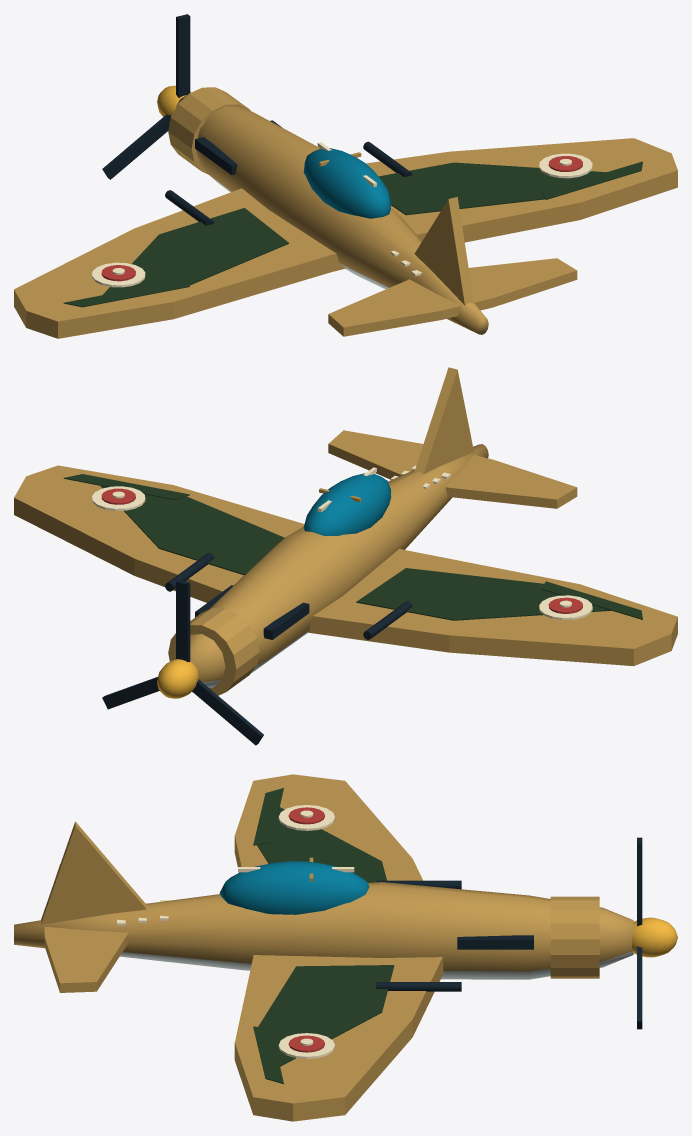
Rendered from scout.glb.
The picture shows the model from 3 angles, top to bottom: view 1: azimuth 30°, elevation 25°; view 2: azimuth 150°, elevation 25°; view 3: azimuth 270°, elevation 25°; orthographic projection. The views are drawn at different scales.
Parts seen in each view (by area): view 1: scout-airframe, blade_0_0.003, blade_0_2.003; view 2: scout-airframe, blade_0_2.003, blade_0_0.003, blade_0_1.003; view 3: scout-airframe, blade_0_0.003.
Boxes of the visible parts, x1,y1,x2,y2 form: scout-airframe: [14, 85, 677, 338]; blade_0_0.003: [176, 14, 190, 97]; blade_0_2.003: [102, 114, 170, 179]; scout-airframe: [14, 367, 677, 698]; blade_0_2.003: [192, 679, 263, 745]; blade_0_0.003: [176, 580, 190, 662]; blade_0_1.003: [102, 677, 159, 709]; scout-airframe: [14, 774, 677, 1121]; blade_0_0.003: [637, 837, 642, 926].
Bounding box in the file's own units: 2.54 × 0.6041 × 2.17.
